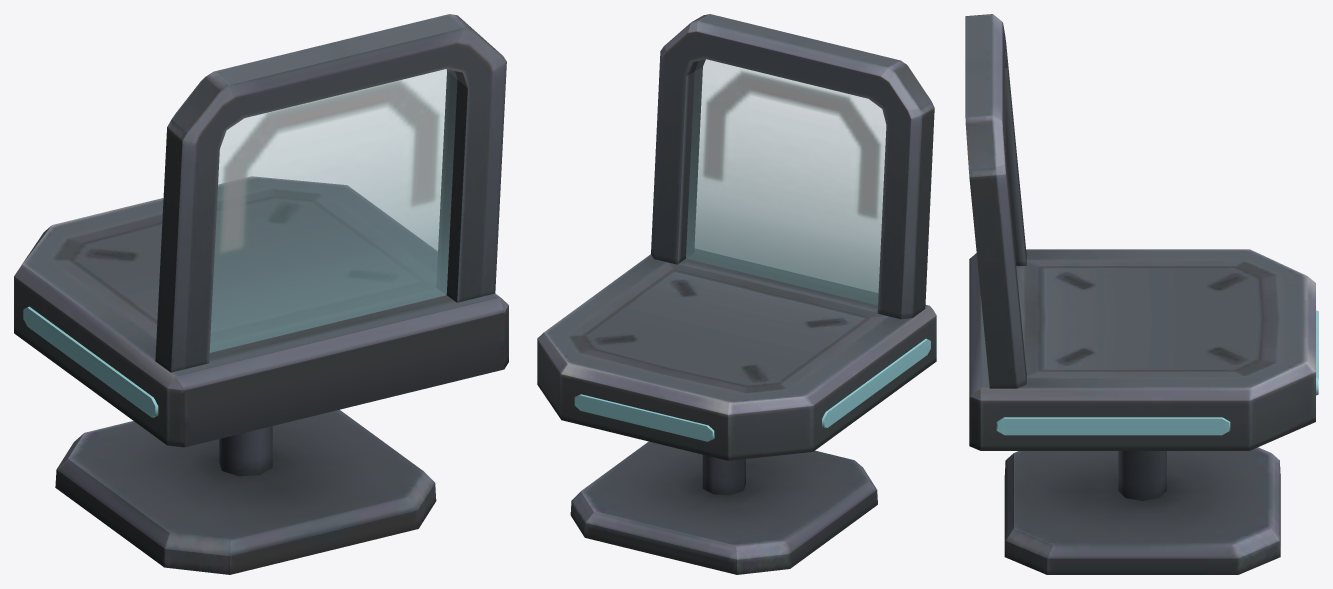
File: furn_sef2022_chair.gltf
3 renders of one model, left to right at view 1: azimuth 30°, elevation 25°; view 2: azimuth 150°, elevation 25°; view 3: azimuth 270°, elevation 25°, orthographic. The views are drawn at different scales.
Parts seen in each view (by area): view 1: sef2022_chair; view 2: sef2022_chair; view 3: sef2022_chair.
Boxes of the visible parts, x1=… form: sef2022_chair: x1=14, y1=14, x2=508, y2=574; sef2022_chair: x1=537, y1=14, x2=936, y2=574; sef2022_chair: x1=965, y1=14, x2=1318, y2=574.
Bounding box in the file's own units: 0.3742 × 0.5307 × 0.3759.
2 materials, 2 textured.
